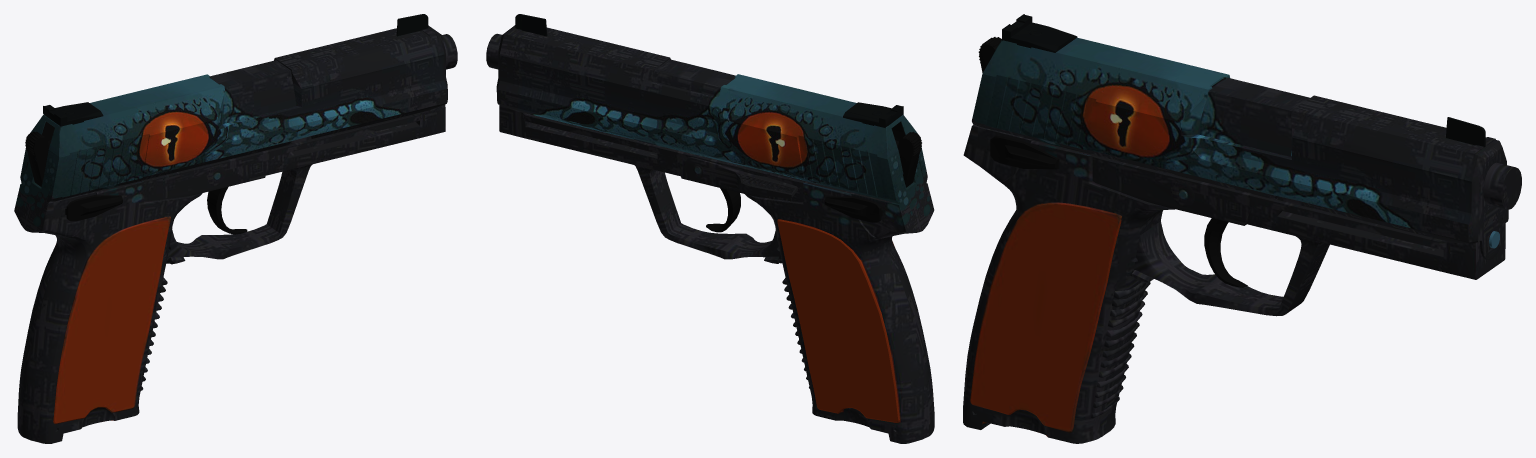
Rendered from w_pistol_mk2_kaiman.glb.
3 renders of one model, left to right at view 1: azimuth 30°, elevation 25°; view 2: azimuth 150°, elevation 25°; view 3: azimuth 330°, elevation 25°, orthographic. The views are drawn at different scales.
Parts seen in each view (by area): view 1: Gun_Root; view 2: Gun_Root; view 3: Gun_Root.
Part boxes in pixels (x1=…): Gun_Root: x1=14, y1=14, x2=457, y2=443; Gun_Root: x1=486, y1=14, x2=934, y2=443; Gun_Root: x1=963, y1=14, x2=1521, y2=443.
Bounding box in the file's own units: 0.1898 × 0.1366 × 0.0295.
1 material, 1 textured.
